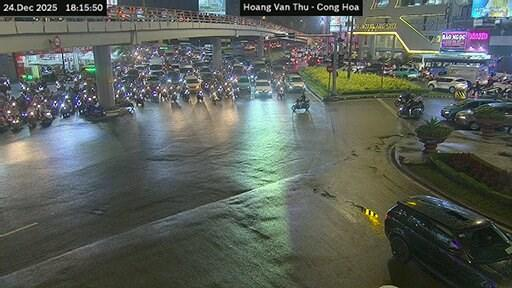motorbike: (396, 99, 422, 118), (291, 99, 309, 111), (393, 94, 410, 106), (39, 109, 51, 126), (277, 85, 284, 99), (195, 90, 202, 102)
